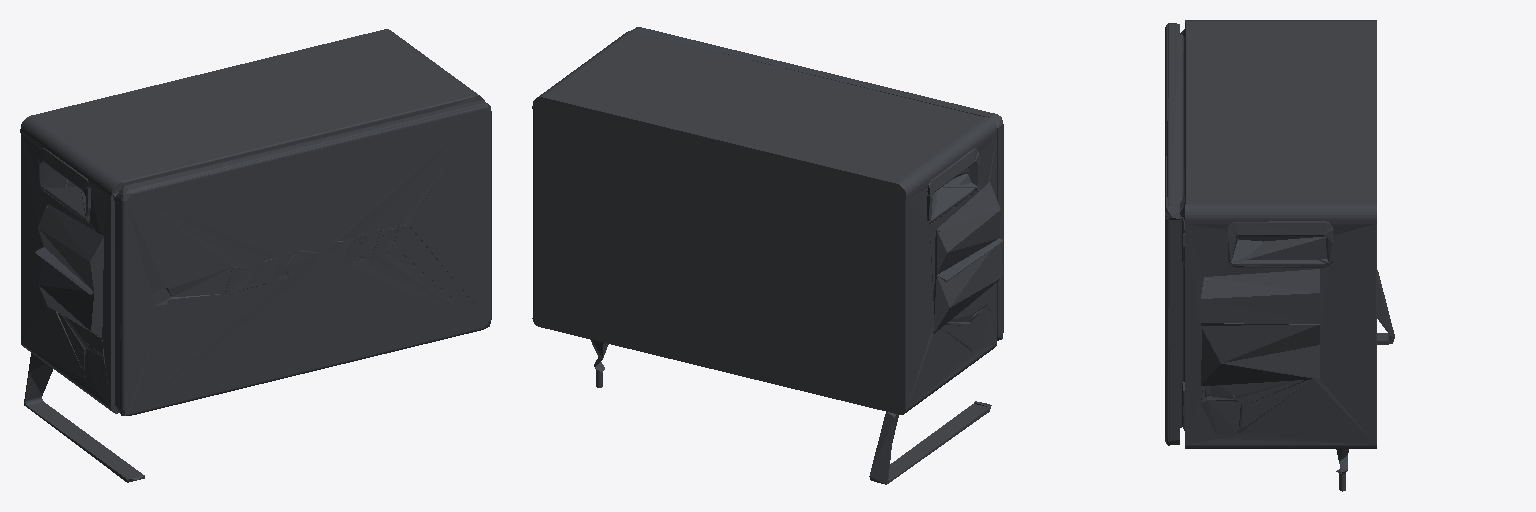
The robot description file, URDF, robot "doosan_controller":
<?xml version="1.0"?>
<!--
  doosan_controller.urdf
  바탕화면 Doosan_Robotics_controller.step → 변환. 단일 바디(링크 1개). 로봇팔 컨트롤러(전장 박스).
  - 원본 STEP 단위 mm → 메쉬 좌표 자체를 m로 스케일 (scale="1 1 1")
  - 솔리드 69개(볼트/커넥터 등 디테일 다수)에 원본 BREP 스케일 변환이 곡면 일부에서 실패해
    mm 단위로 먼저 테셀레이션 후 정점만 스케일하는 방식으로 우회 변환.
  - 원래 Mesh.decimate로 4.6만개까지 단순화했었는데 모델이 깨져 보이는 문제가 있어서,
    단순화 없이 원본 테셀레이션(26만 3,544면) 그대로 사용함 — 렌더링 부하는 있지만 형상은 온전함.
  - 원점: 모델 자체 기준점 (중심/바닥 어디에도 안 맞음, x:-0.039~0.443, y:-0.203~0.028, z:-0.079~0.263)
  - 치수 0.482 x 0.231 x 0.342 m (삼각형 263,544면, 원본 그대로)
  - 시각(visual): 원본 메쉬(단순화 없음). 충돌(collision): 박스로 단순화(치수=메쉬 바운딩박스)
  - 정적 소품(스탠드 옆 바닥 거치)이므로 스폰 시 AssetOptions.fix_base_link=True 권장
-->
<robot name="doosan_controller">

  <material name="controller_gray"> <color rgba="0.30 0.31 0.33 1.0"/> </material>

  <link name="base_link">
    <inertial>
      <origin xyz="0.2017 -0.0872 0.0919"/>
      <mass value="18.0"/>
      <!-- 박스 관성 (m=18, 0.482x0.231x0.342) -->
      <inertia ixx="0.2558" ixy="0" ixz="0" iyy="0.5242" iyz="0" izz="0.4285"/>
    </inertial>

    <visual>
      <origin xyz="0 0 0"/>
      <geometry><mesh filename="meshes/doosan_controller.stl" scale="1 1 1"/></geometry>
      <material name="controller_gray"/>
    </visual>

    <collision>
      <origin xyz="0.2017 -0.0872 0.0919"/>
      <geometry><box size="0.482 0.231 0.342"/></geometry>
    </collision>
  </link>
</robot>

--- Render facts (derived) ---
The picture shows the robot from 3 angles, left to right: view 1: azimuth 30°, elevation 25°; view 2: azimuth 150°, elevation 25°; view 3: azimuth 270°, elevation 25°; orthographic projection.
Robot: doosan_controller — 1 links, 0 joints (none); root link base_link; default pose: all joints at 0.
Links seen in each view (by area): view 1: base_link; view 2: base_link; view 3: base_link.
Link boxes in pixels (x1=…): base_link: x1=20, y1=29, x2=491, y2=482; base_link: x1=532, y1=27, x2=1003, y2=484; base_link: x1=1165, y1=20, x2=1394, y2=491.
Bounding box of the posed robot: 0.482 × 0.2277 × 0.3423 m (x, y, z).
Meshes: 1 distinct files referenced, 1 mesh visuals loaded (1 binary STL).
